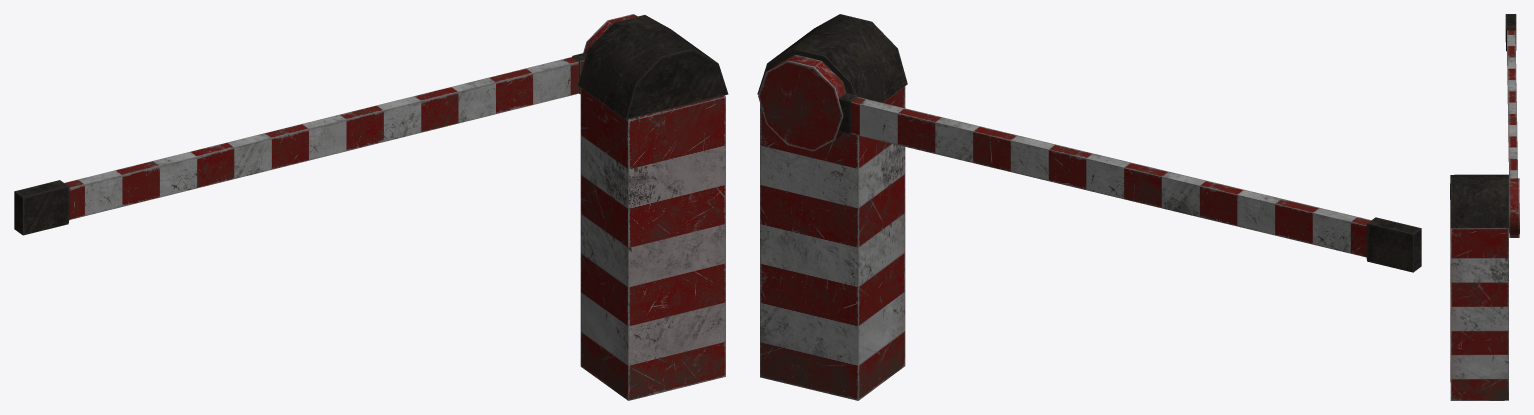
Rendered from plumastop.fbx.
3 renders of one model, left to right at view 1: azimuth 30°, elevation 25°; view 2: azimuth 150°, elevation 25°; view 3: azimuth 270°, elevation 25°, orthographic. The views are drawn at different scales.
Visible parts, largest first — view 1: barrier3, barrier3.001; view 2: barrier3, barrier3.001; view 3: barrier3, barrier3.001.
Boxes of the visible parts, x1=… form: barrier3: x1=578, y1=15, x2=728, y2=400; barrier3.001: x1=14, y1=14, x2=637, y2=235; barrier3: x1=757, y1=14, x2=907, y2=400; barrier3.001: x1=758, y1=54, x2=1421, y2=272; barrier3: x1=1450, y1=174, x2=1509, y2=400; barrier3.001: x1=1505, y1=14, x2=1519, y2=237.
Size of the model in its own units: 290 by 141 by 43.04.
Materials: 1 (1 with a texture image).
